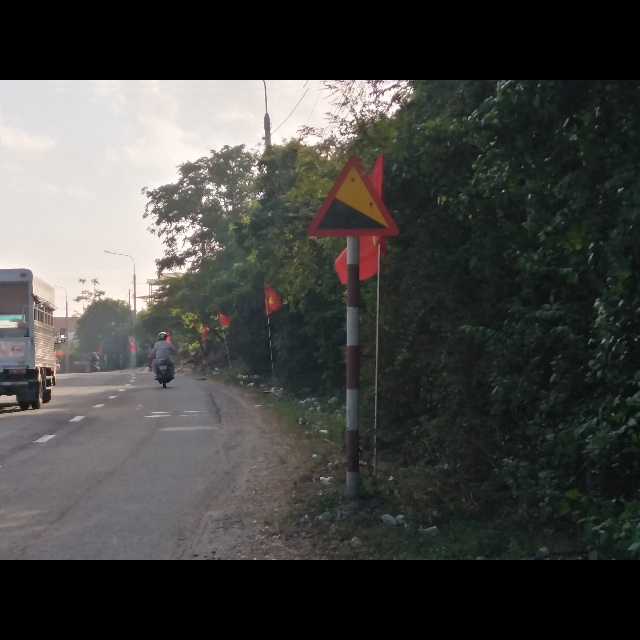Dốc lên nguy hiểm: (308, 155, 400, 239)
